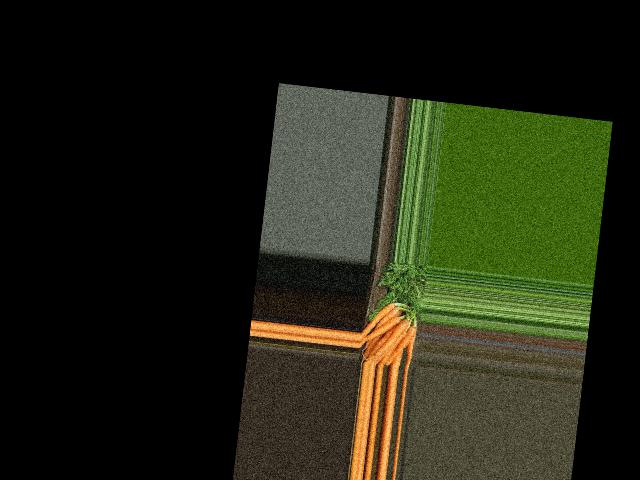carrot: (384, 322, 417, 369)
